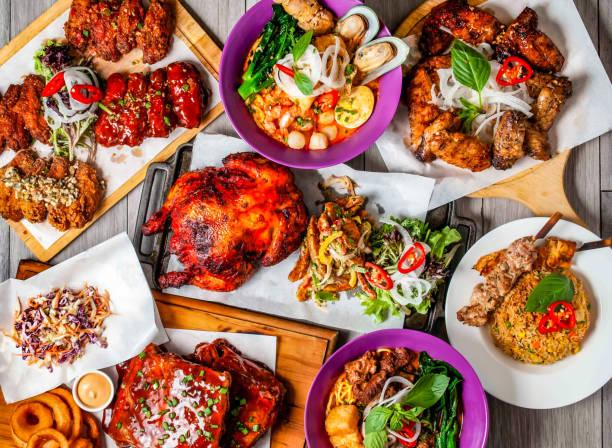Braised Crucian Carp: (4, 0, 229, 255), (163, 131, 433, 331), (370, 0, 607, 204), (445, 217, 612, 409), (217, 0, 396, 171)
